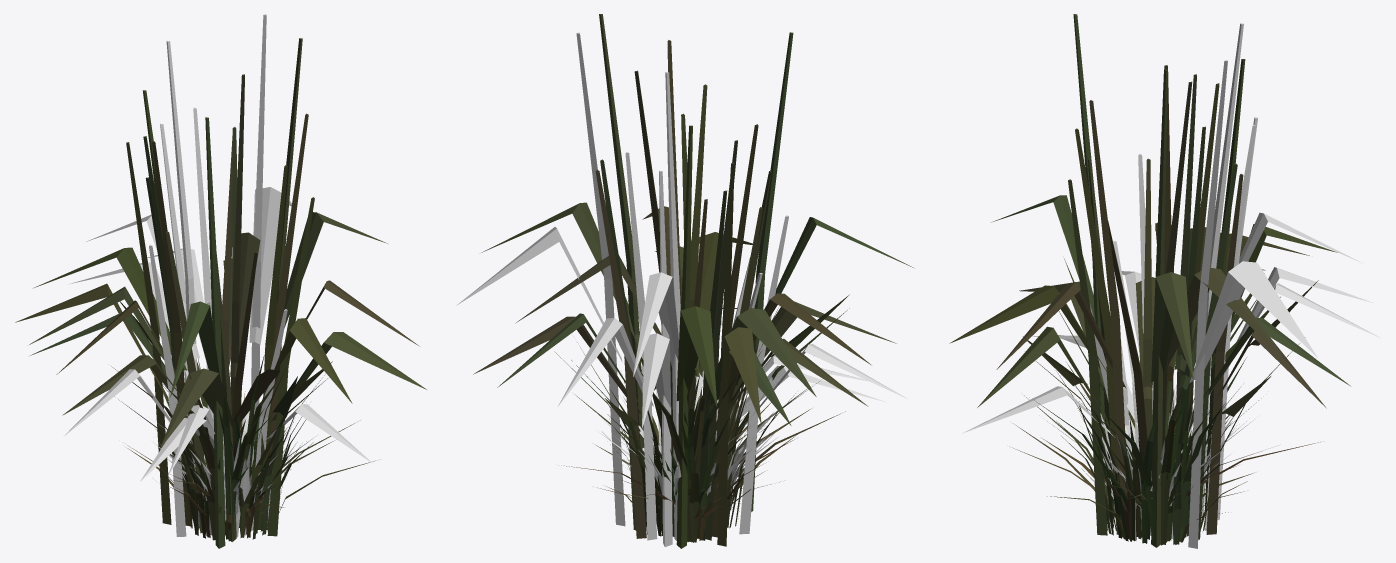
The model's file is CityGrass3D.fbx.
The picture shows the model from 3 angles, left to right: view 1: azimuth 30°, elevation 25°; view 2: azimuth 150°, elevation 25°; view 3: azimuth 270°, elevation 25°; orthographic projection. The views are drawn at different scales.
Visible parts, largest first — view 1: Reed_0_LOD0, Reed_1_LOD0, Reed_2_LOD0, Tall_1_LOD0, Sedge_1_LOD0, Tall_2_LOD0, Dry_0_LOD0, Tall_0_LOD0, Sedge_0_LOD0, Sedge_2_LOD0, Broad_2_LOD0, Dry_2_LOD0; view 2: Reed_1_LOD0, Reed_2_LOD0, Reed_0_LOD0, Tall_2_LOD0, Tall_0_LOD0, Sedge_0_LOD0, Sedge_1_LOD0, Tall_1_LOD0, Dry_0_LOD0, Dry_2_LOD0, Dry_1_LOD0; view 3: Reed_0_LOD0, Reed_1_LOD0, Reed_2_LOD0, Sedge_1_LOD0, Tall_1_LOD0, Sedge_2_LOD0, Dry_0_LOD0, Tall_0_LOD0, Tall_2_LOD0, Sedge_0_LOD0, Tussock_2_LOD0, Dry_1_LOD0 (+1 smaller).
Part boxes in pixels (bbox=[...]): Reed_0_LOD0: bbox=[33, 74, 426, 548]; Reed_1_LOD0: bbox=[15, 38, 387, 541]; Reed_2_LOD0: bbox=[63, 14, 372, 536]; Tall_1_LOD0: bbox=[120, 301, 332, 535]; Sedge_1_LOD0: bbox=[118, 384, 311, 541]; Tall_2_LOD0: bbox=[111, 327, 295, 535]; Dry_0_LOD0: bbox=[169, 410, 375, 539]; Tall_0_LOD0: bbox=[163, 369, 258, 540]; Sedge_0_LOD0: bbox=[160, 363, 324, 538]; Sedge_2_LOD0: bbox=[190, 410, 301, 539]; Broad_2_LOD0: bbox=[189, 411, 277, 537]; Dry_2_LOD0: bbox=[127, 391, 360, 538]; Reed_1_LOD0: bbox=[473, 14, 896, 546]; Reed_2_LOD0: bbox=[456, 32, 907, 546]; Reed_0_LOD0: bbox=[515, 32, 913, 548]; Tall_2_LOD0: bbox=[554, 308, 795, 542]; Tall_0_LOD0: bbox=[577, 294, 849, 542]; Sedge_0_LOD0: bbox=[571, 351, 761, 540]; Sedge_1_LOD0: bbox=[609, 381, 819, 535]; Tall_1_LOD0: bbox=[624, 306, 779, 526]; Dry_0_LOD0: bbox=[602, 388, 845, 523]; Dry_2_LOD0: bbox=[574, 394, 811, 540]; Dry_1_LOD0: bbox=[561, 439, 794, 538]; Reed_0_LOD0: bbox=[949, 14, 1337, 537]; Reed_1_LOD0: bbox=[1019, 69, 1350, 547]; Reed_2_LOD0: bbox=[962, 23, 1380, 548]; Sedge_1_LOD0: bbox=[1047, 382, 1225, 545]; Tall_1_LOD0: bbox=[1023, 273, 1264, 545]; Sedge_2_LOD0: bbox=[1073, 386, 1212, 544]; Dry_0_LOD0: bbox=[1024, 362, 1238, 539]; Tall_0_LOD0: bbox=[1064, 258, 1280, 541]; Tall_2_LOD0: bbox=[1059, 279, 1318, 530]; Sedge_0_LOD0: bbox=[1034, 376, 1240, 541]; Tussock_2_LOD0: bbox=[1120, 409, 1209, 541]; Dry_1_LOD0: bbox=[1077, 408, 1321, 541].
Size of what is drawn, in the model's own units: 120 by 146 by 116.
